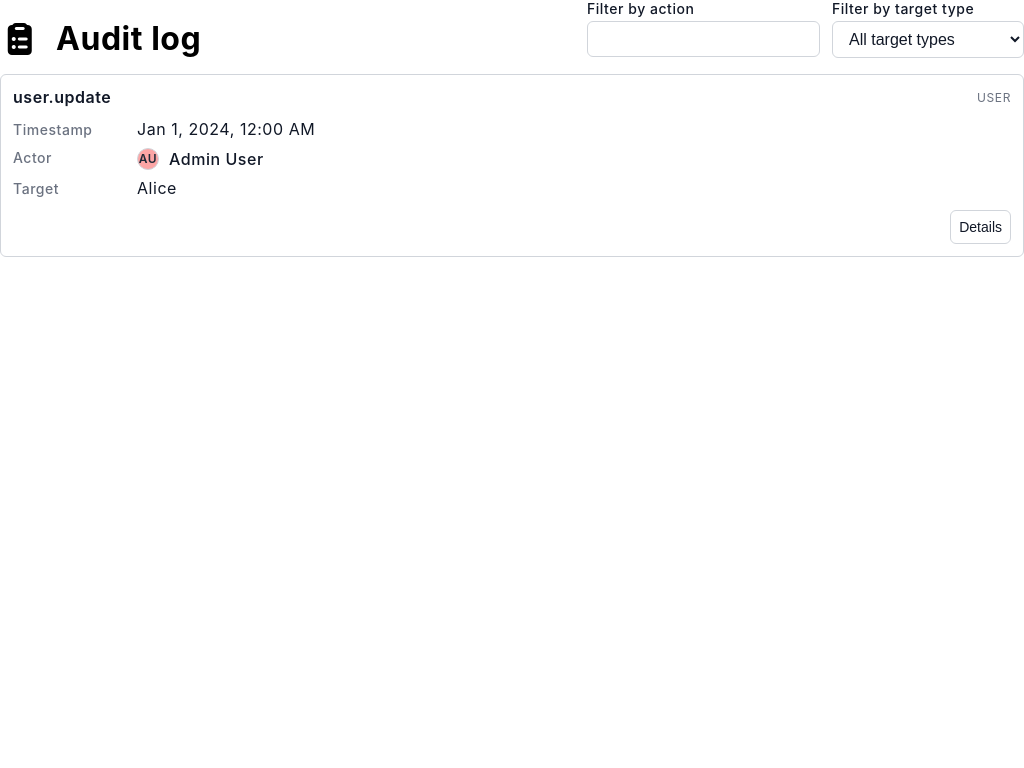
Test: AuditView › opens a modal with pretty-printed details
Step 1. Click the button "Details" → (981, 226), box [950,210,1011,244]
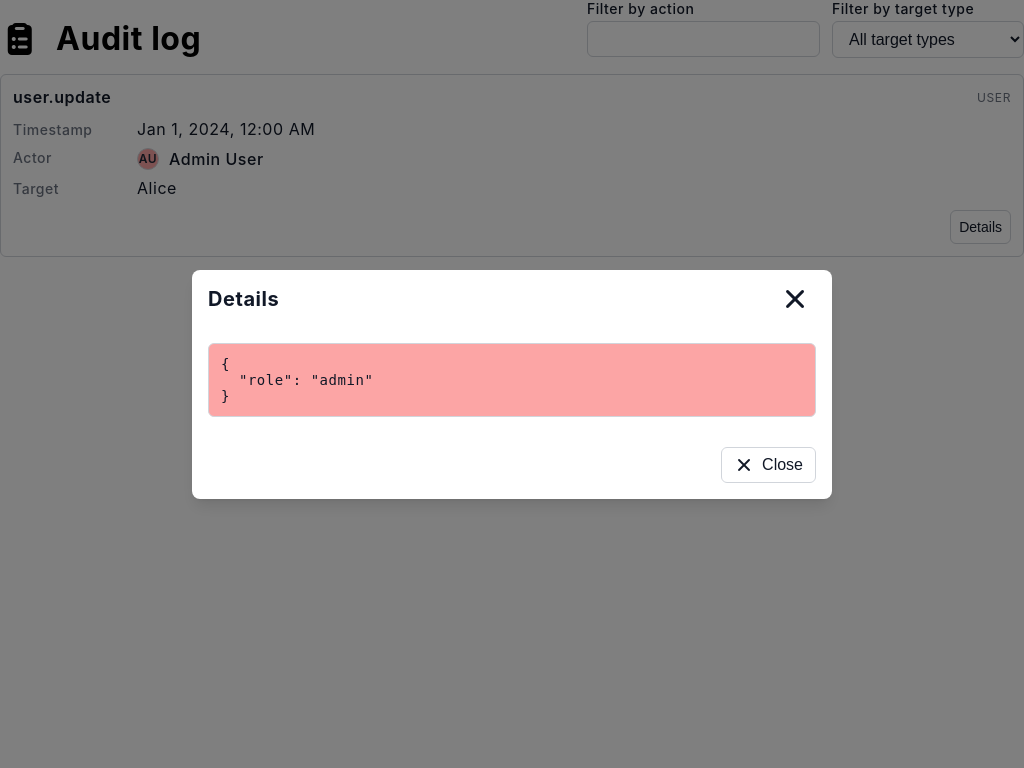
expect the text "Admin" is shown: met, box [169,148,264,168]
expect the text "role" is shown: met, box [221,356,373,404]
